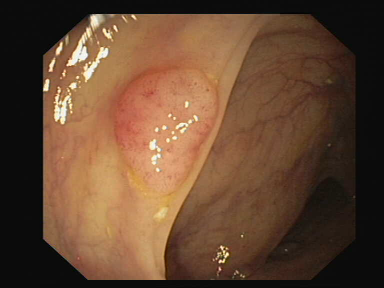polyp: (103, 52, 227, 206)
